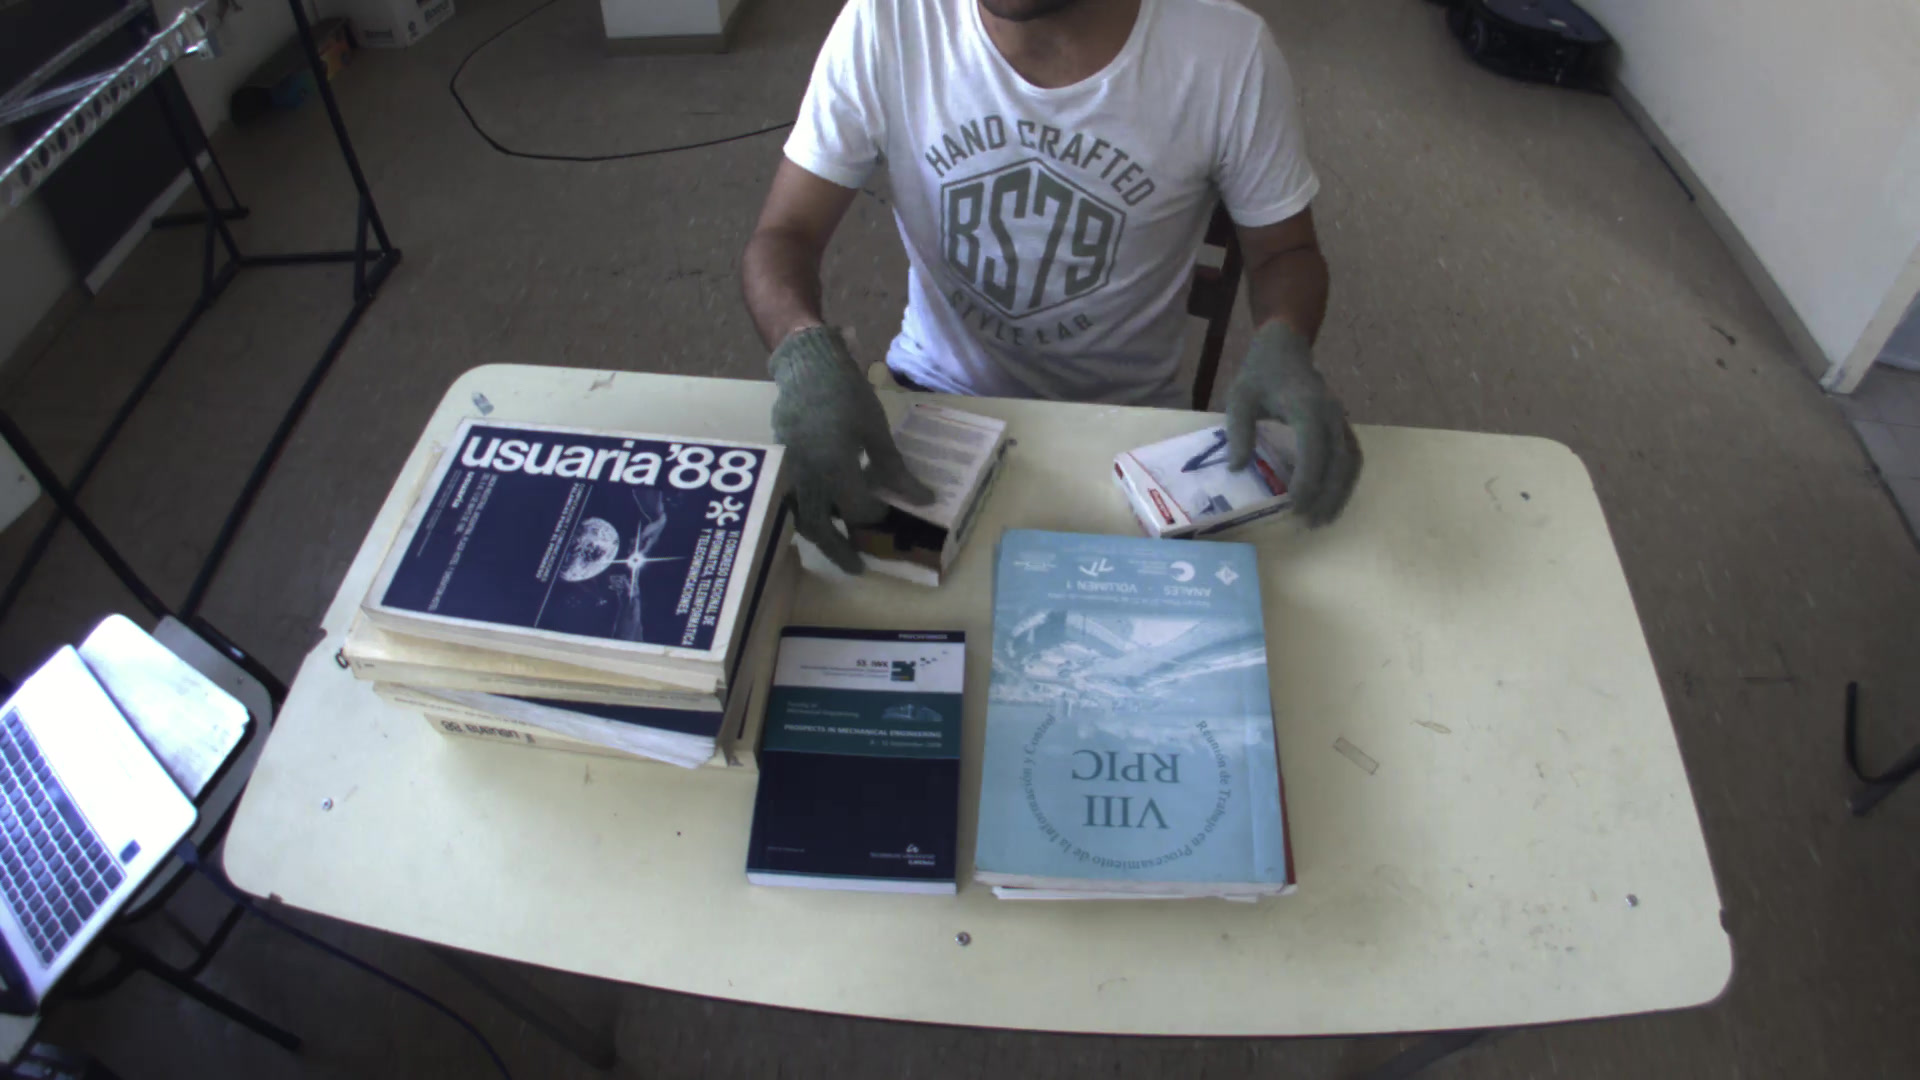hand: (745, 316, 936, 560), (1209, 314, 1379, 535)
